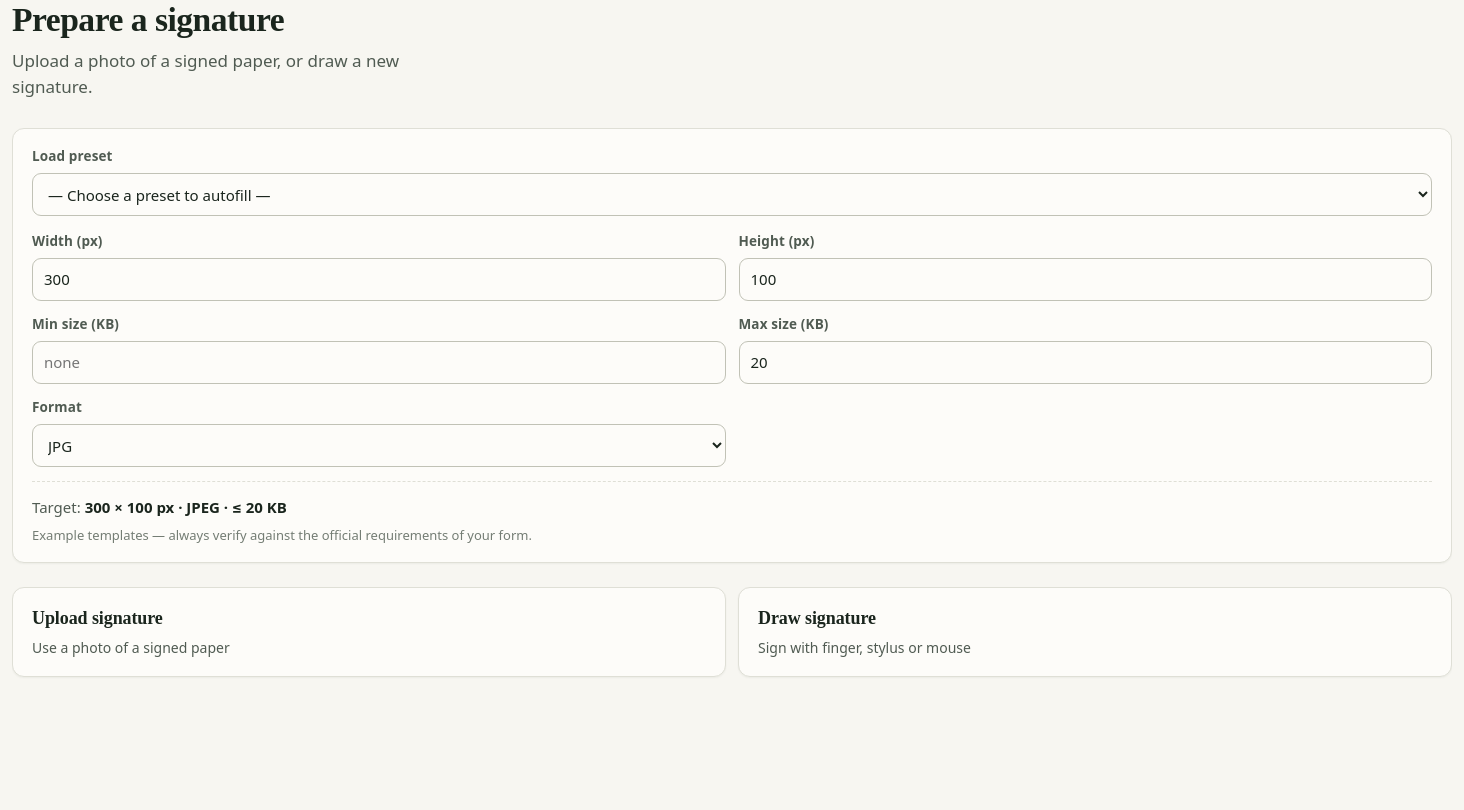
it: SignatureView flow › enables finishing after a stroke and passes the canvas to processing
Click the button "Draw signature Sign with finger, stylus or mouse": (817, 618) [738, 587, 1452, 677]
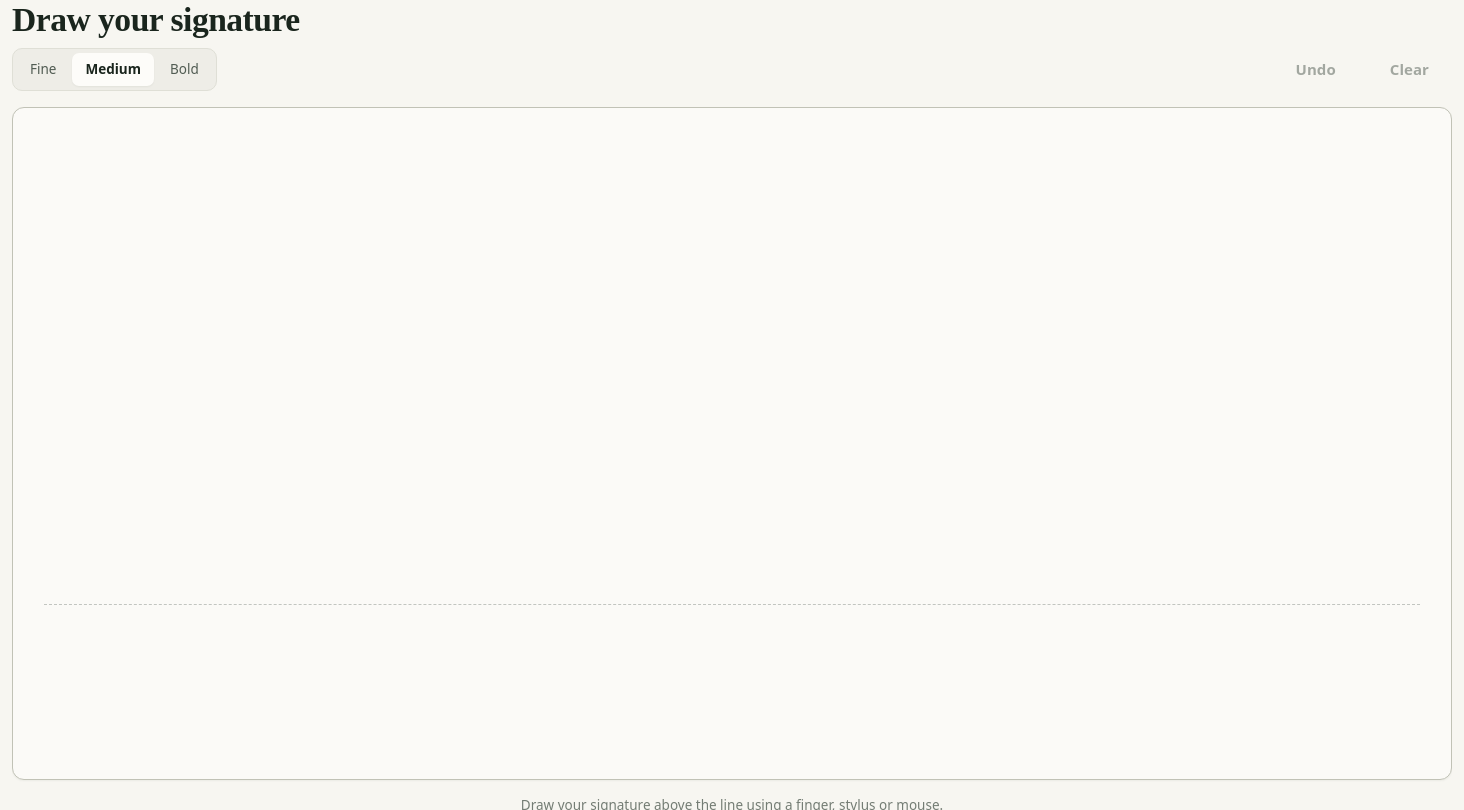
Press the mouse on the drawing named "signature drawing area": (732, 443) [12, 107, 1452, 780]
(page scrolled)
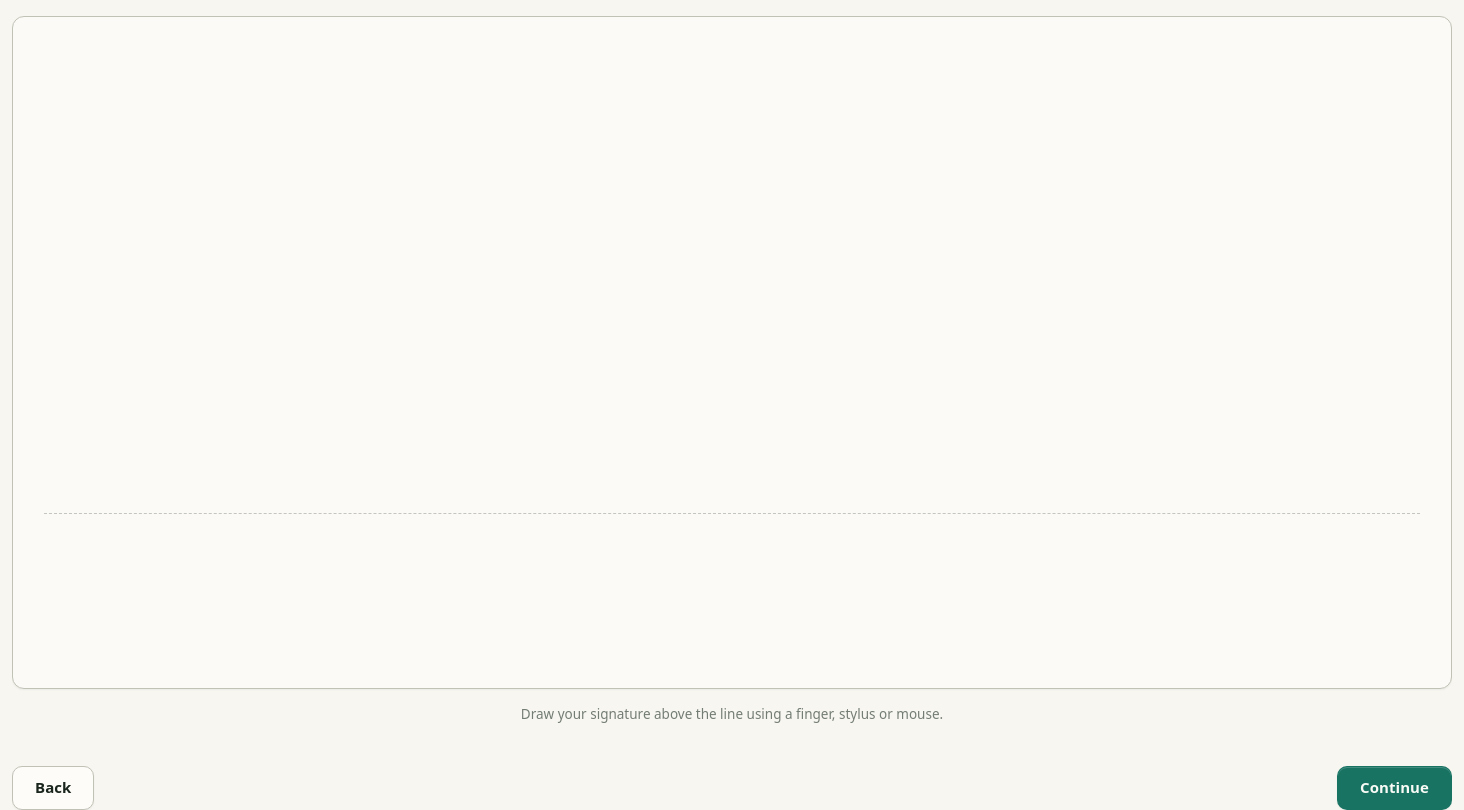
Click the button "Continue": (1394, 788) [1337, 766, 1452, 809]
(page scrolled)
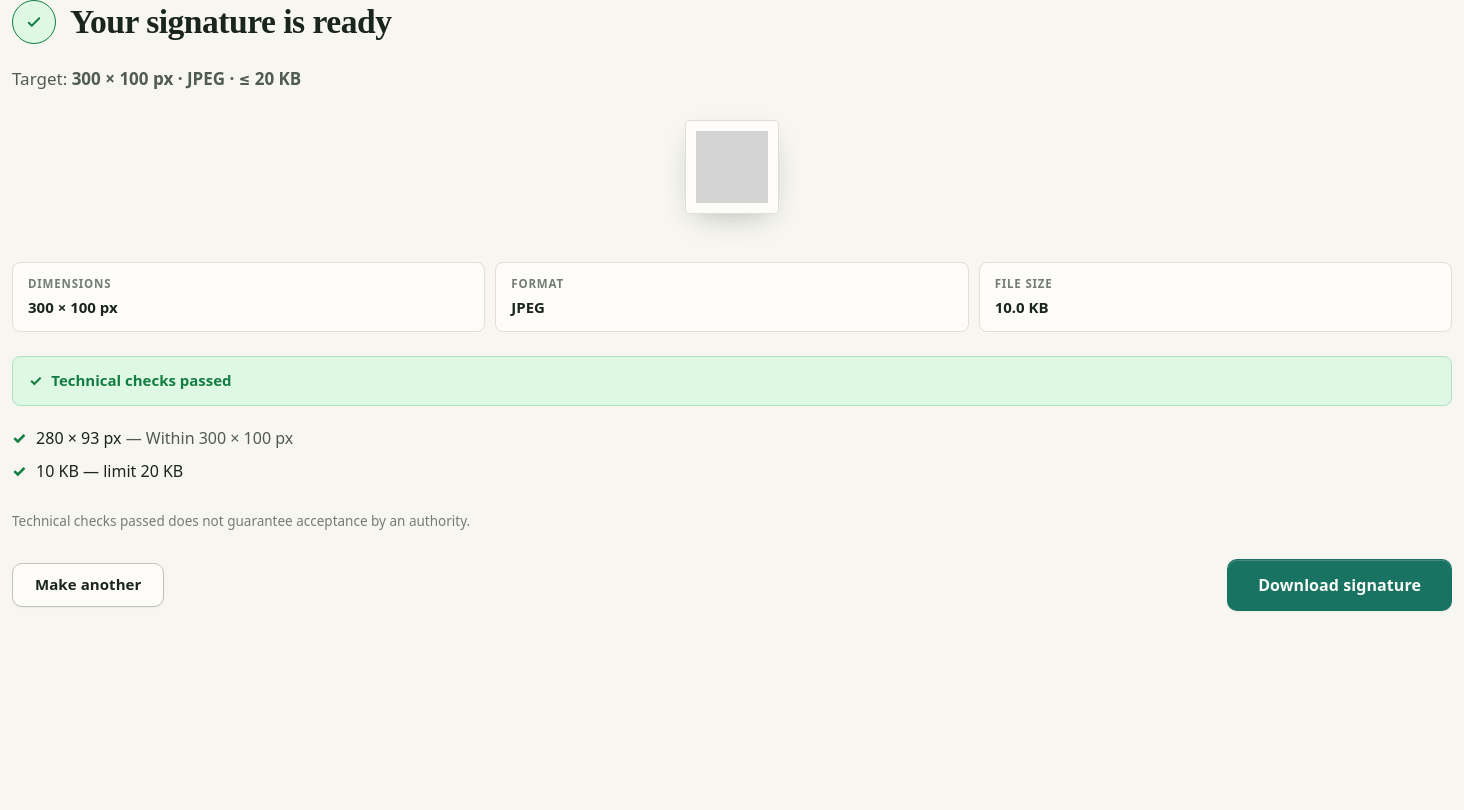
expect the heading "Your signature is ready" is shown: met, box [70, 2, 392, 42]
